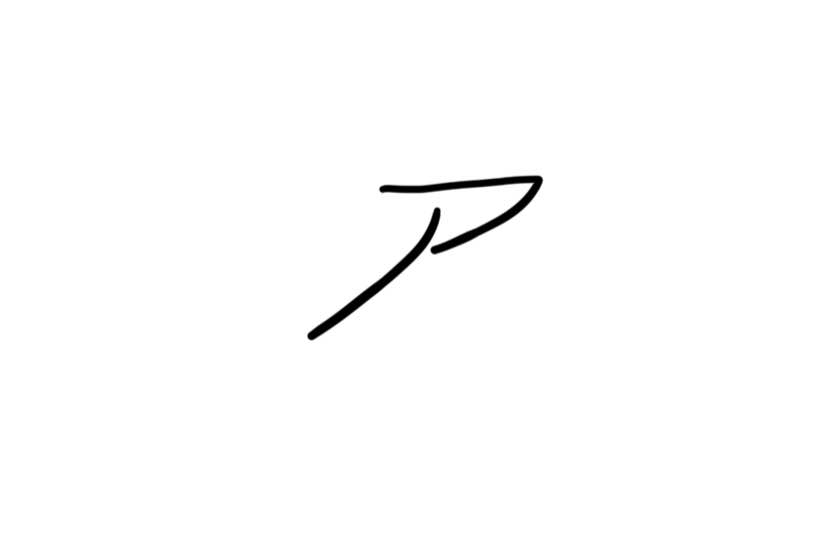a: (302, 168, 556, 343)
